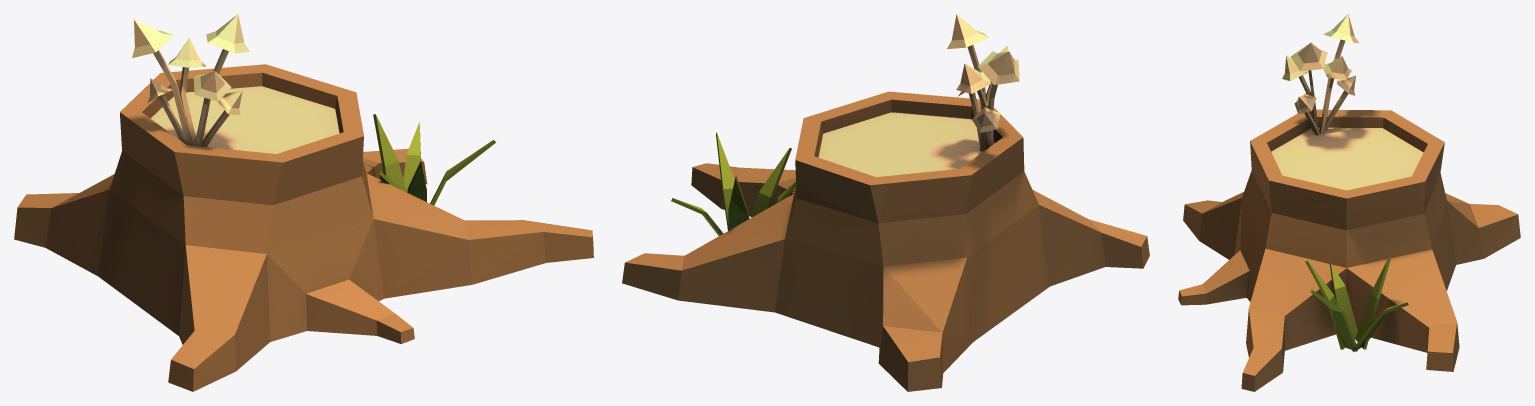
The model's file is tree_stump.glb.
The picture shows the model from 3 angles, left to right: view 1: azimuth 30°, elevation 25°; view 2: azimuth 150°, elevation 25°; view 3: azimuth 270°, elevation 25°; orthographic projection. The views are drawn at different scales.
Visible parts, largest first — view 1: tree_stump; view 2: tree_stump; view 3: tree_stump.
Part boxes in pixels (box(x1,y1,x2,y2)): tree_stump: box(14, 14, 593, 391); tree_stump: box(622, 14, 1149, 391); tree_stump: box(1178, 14, 1520, 391).
Bounding box in the file's own units: 1.7 × 1.04 × 1.41.
Materials: 1 (1 with a texture image).
